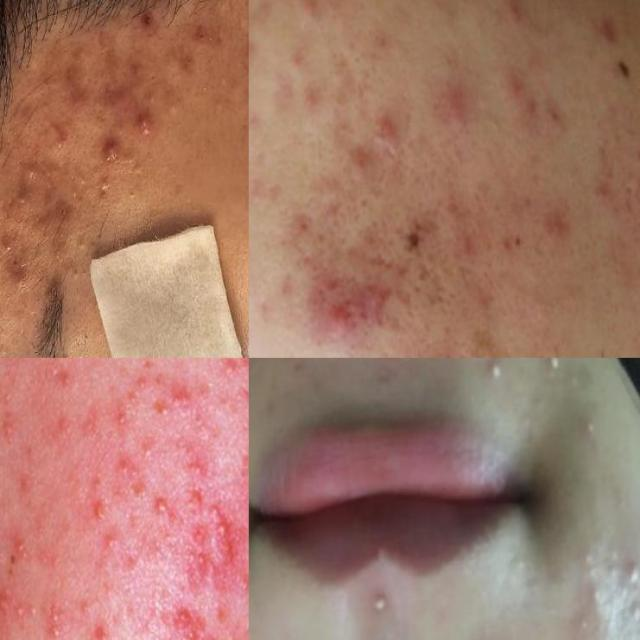acne_scars: (394, 212, 446, 257), (356, 243, 402, 287)
comedone: (64, 165, 96, 207), (160, 79, 188, 125), (576, 407, 606, 444), (120, 176, 142, 216), (64, 256, 91, 286), (213, 62, 236, 96), (12, 185, 30, 208), (0, 336, 17, 358), (242, 240, 248, 275)
papule: (426, 72, 472, 136), (313, 293, 365, 340), (367, 98, 407, 158), (102, 447, 142, 494), (168, 371, 193, 428), (496, 71, 527, 113), (290, 0, 328, 30), (218, 358, 248, 392), (70, 81, 96, 119), (218, 609, 248, 640), (232, 476, 249, 529), (85, 617, 115, 640), (21, 157, 41, 185)
pustule: (358, 576, 398, 630), (536, 197, 571, 253), (8, 585, 44, 628), (478, 358, 511, 388), (533, 358, 569, 385), (6, 527, 28, 569), (146, 488, 172, 522), (79, 494, 106, 526), (618, 554, 640, 592), (622, 597, 640, 628)
sebo-crystan-conglo: (177, 520, 206, 603), (208, 496, 234, 565), (5, 260, 36, 304), (94, 131, 126, 173), (136, 108, 154, 149)
